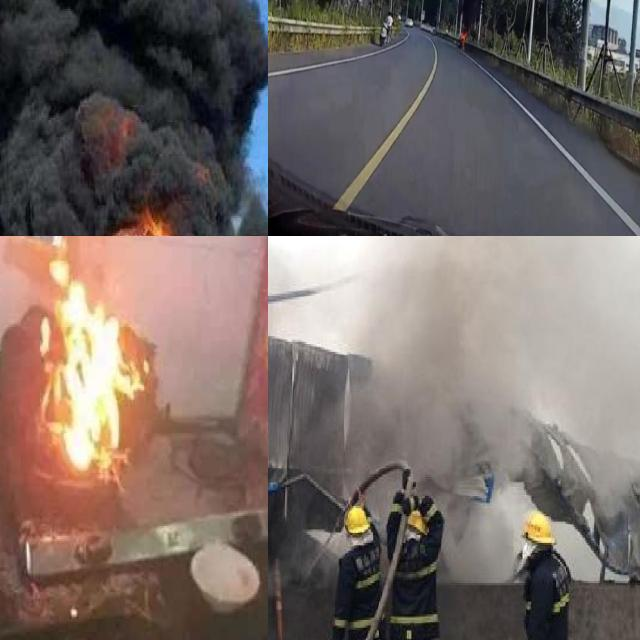fire: (35, 244, 148, 471), (458, 25, 469, 44)
smoke: (0, 0, 268, 236), (358, 236, 640, 451), (443, 488, 526, 582)
